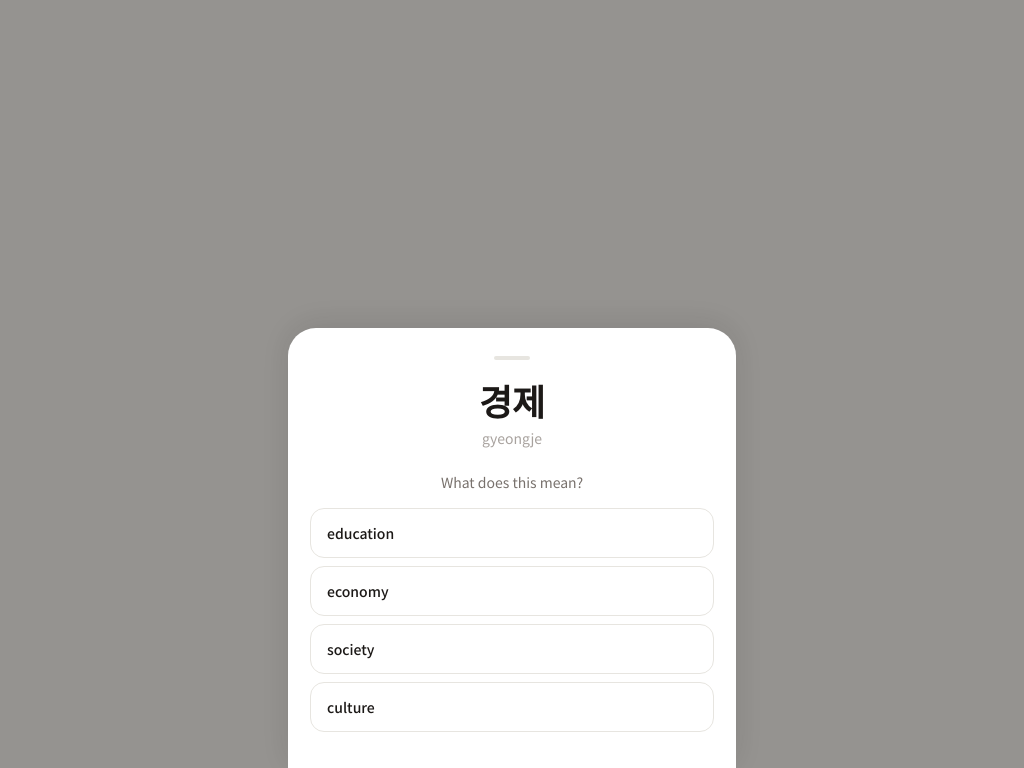
WordQuizPopup › shows continue action after answering
Click the button "economy".
click(358, 591)  # box top-left (310, 566), bottom-right (714, 616)
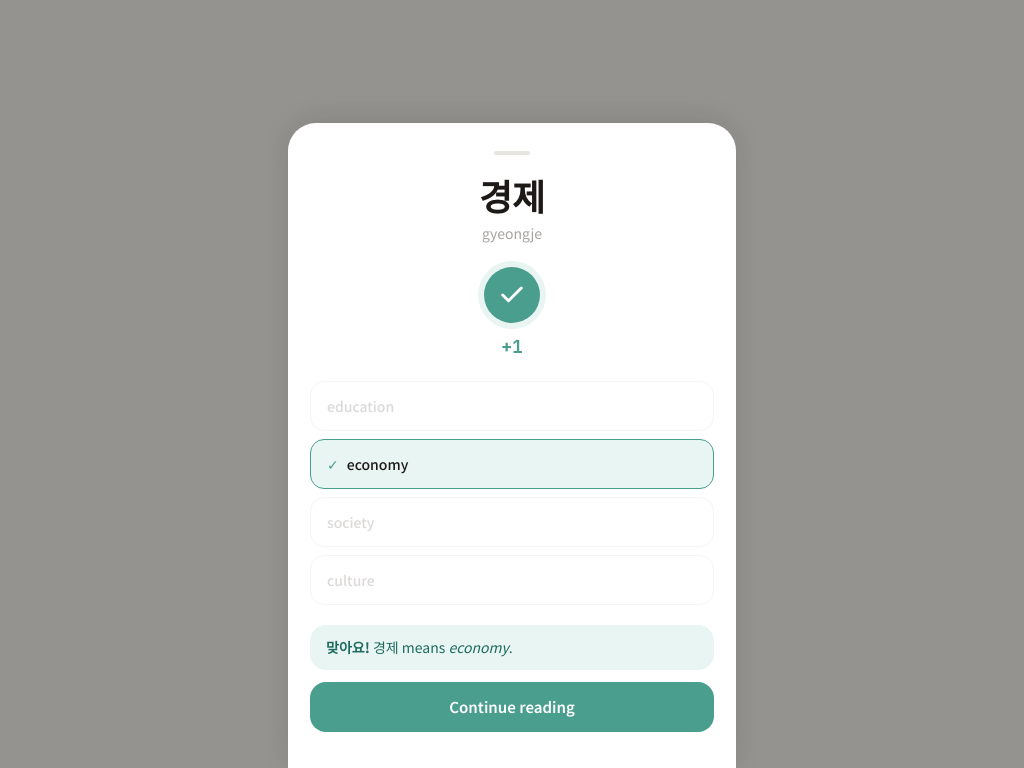
Expected: the button "Continue reading" is shown, top-left (310, 682), bottom-right (714, 732)
